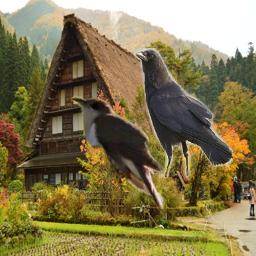Crow: (134, 48, 233, 178)
Cuckoo: (71, 95, 167, 224)
